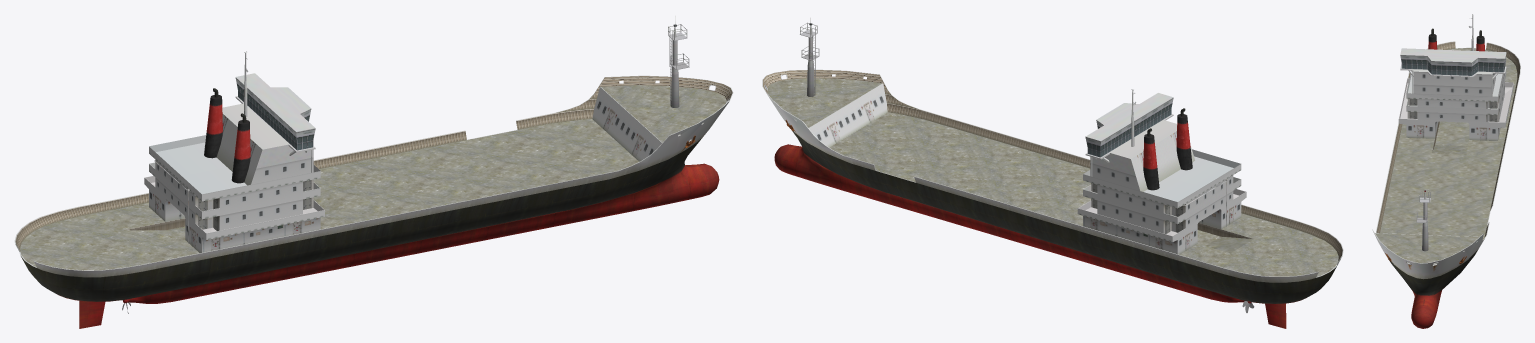
File: ship_original.FBX
3 renders of one model, left to right at view 1: azimuth 30°, elevation 25°; view 2: azimuth 150°, elevation 25°; view 3: azimuth 270°, elevation 25°, orthographic. The views are drawn at different scales.
Visible parts, largest first — view 1: boot; view 2: boot; view 3: boot.
Part boxes in pixels (box(x1,y1,x2,y2)): boot: box(14, 16, 733, 328); boot: box(762, 18, 1343, 328); boot: box(1372, 14, 1520, 328).
Bounding box in the file's own units: 83.16 × 27.43 × 21.71.
